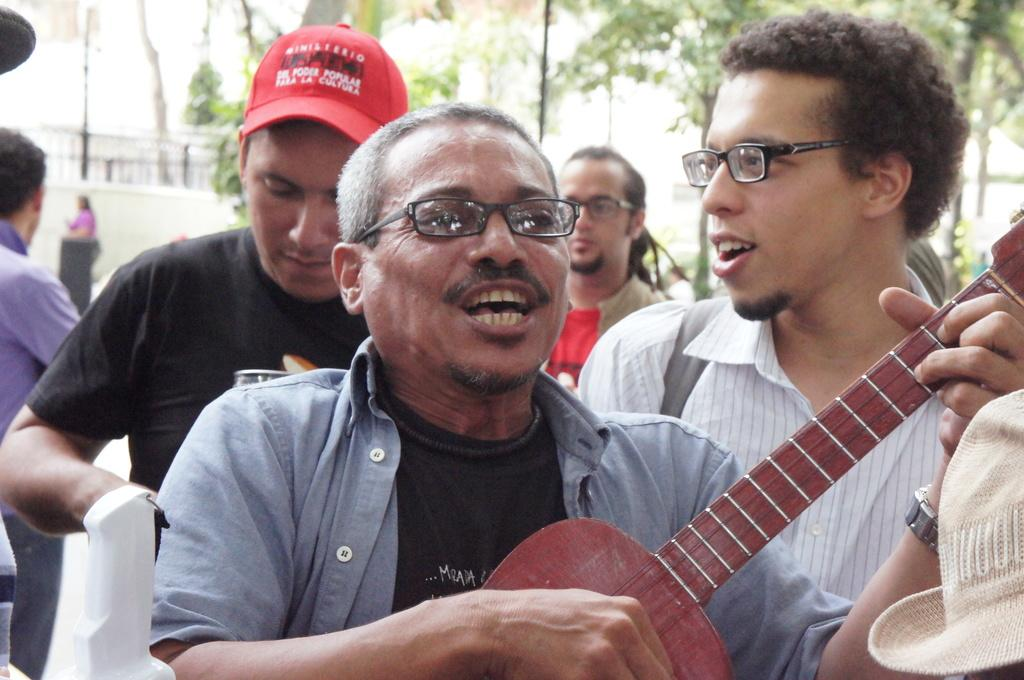Hat: (240, 18, 404, 142), (0, 3, 36, 79)
